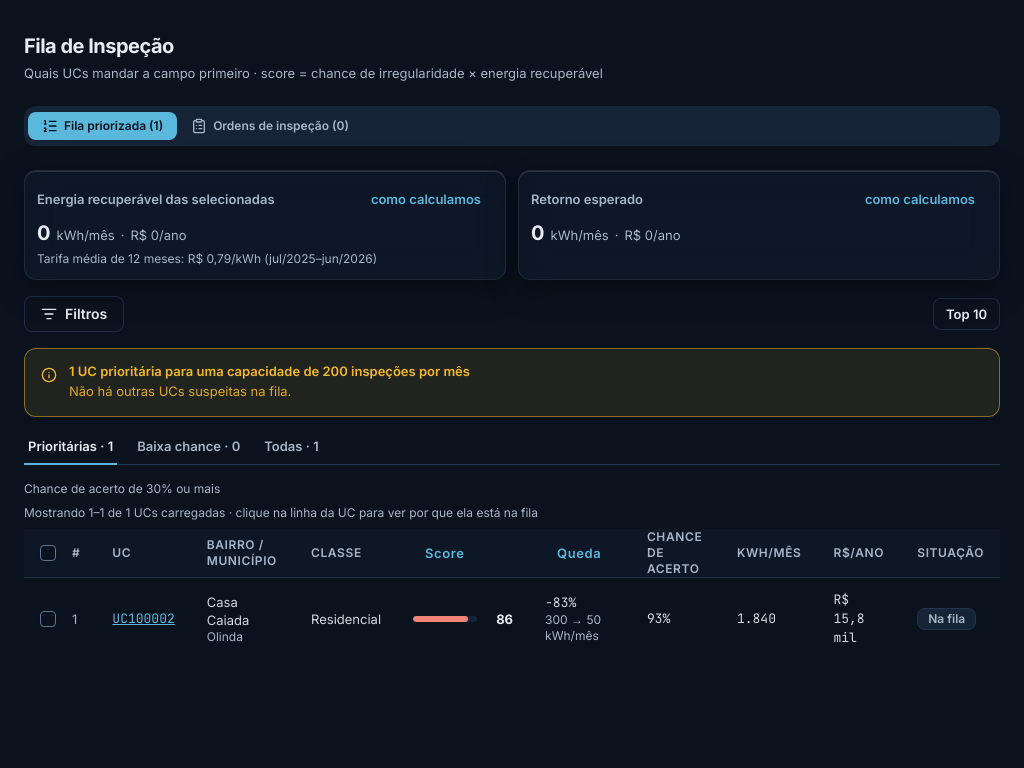
it: Painel de detalhe da UC › diretor abre o painel, mas não vê o botão de gerar ordem
Click the text "Casa Caiada" at (228,610), box [207,594,249,628]
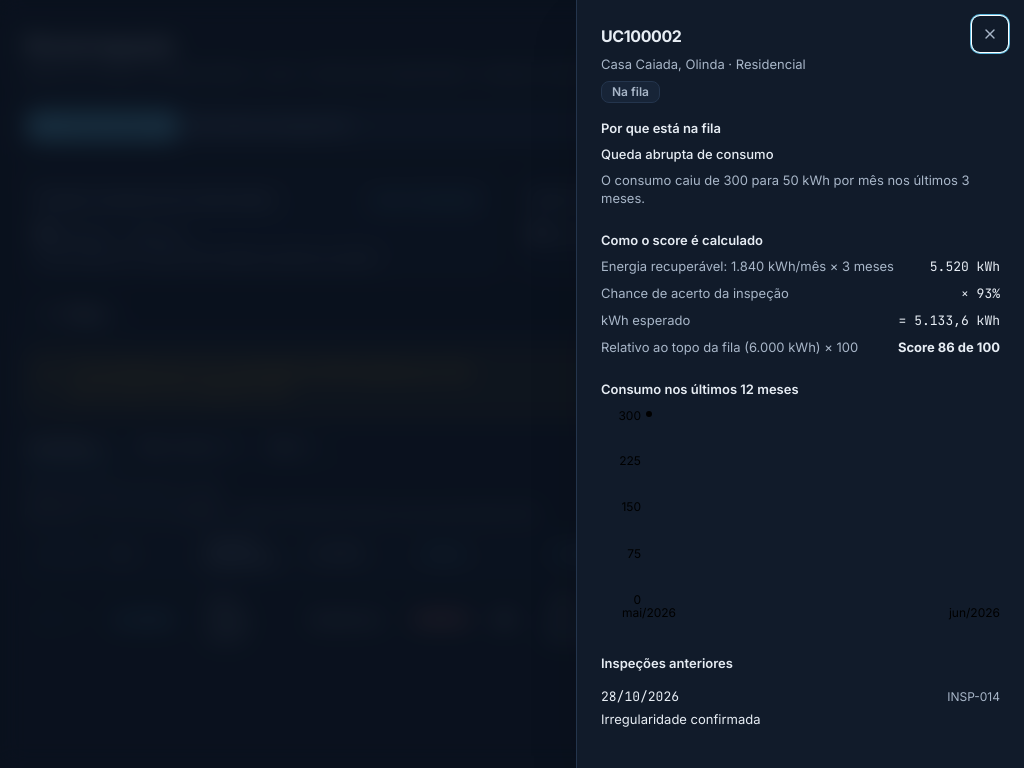
Expected: the text "Score 86 de 100" is shown, [898,338,1000,356]
